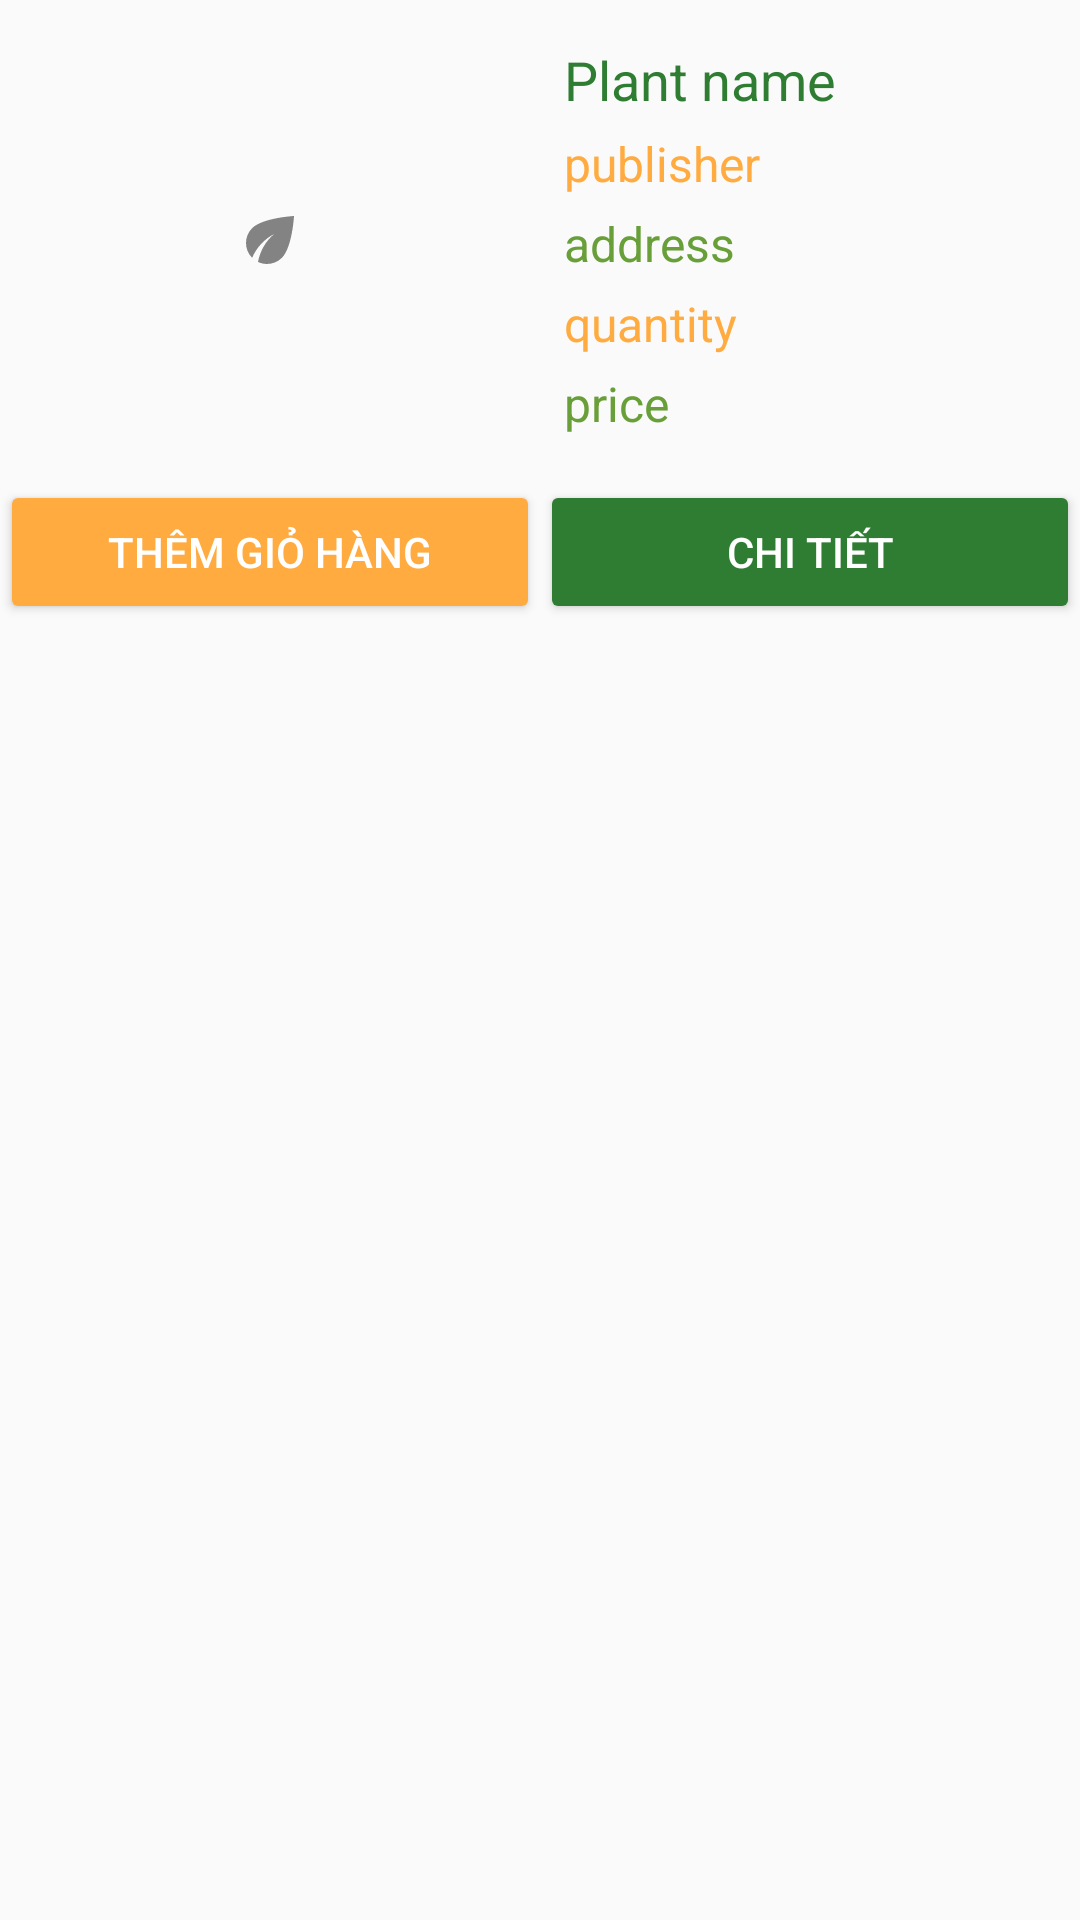

Locate icon controls on the screen. Image size 1080*1920, boxes as (x1, y1, x2, y2).
leaf: (246, 216, 294, 264)
